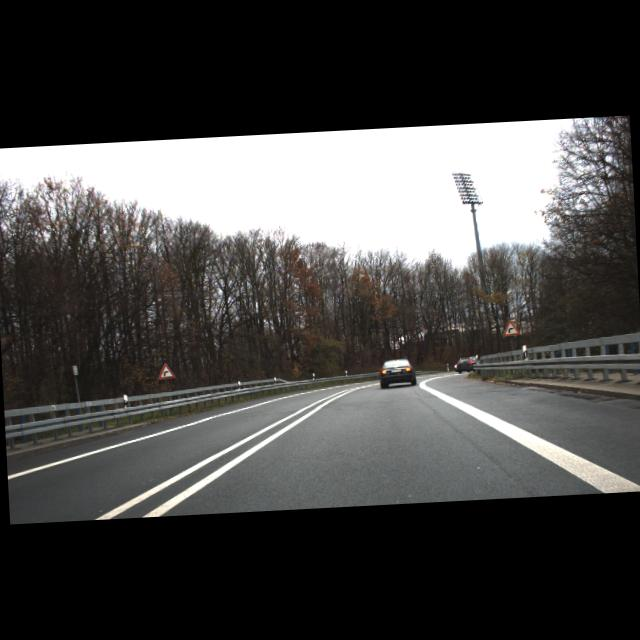danger: (501, 319, 520, 337), (157, 362, 175, 380)
